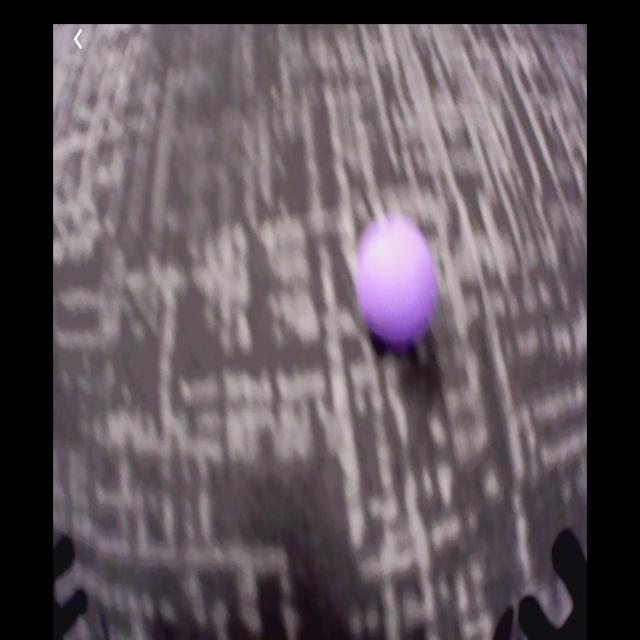ball: (356, 218, 436, 347)
